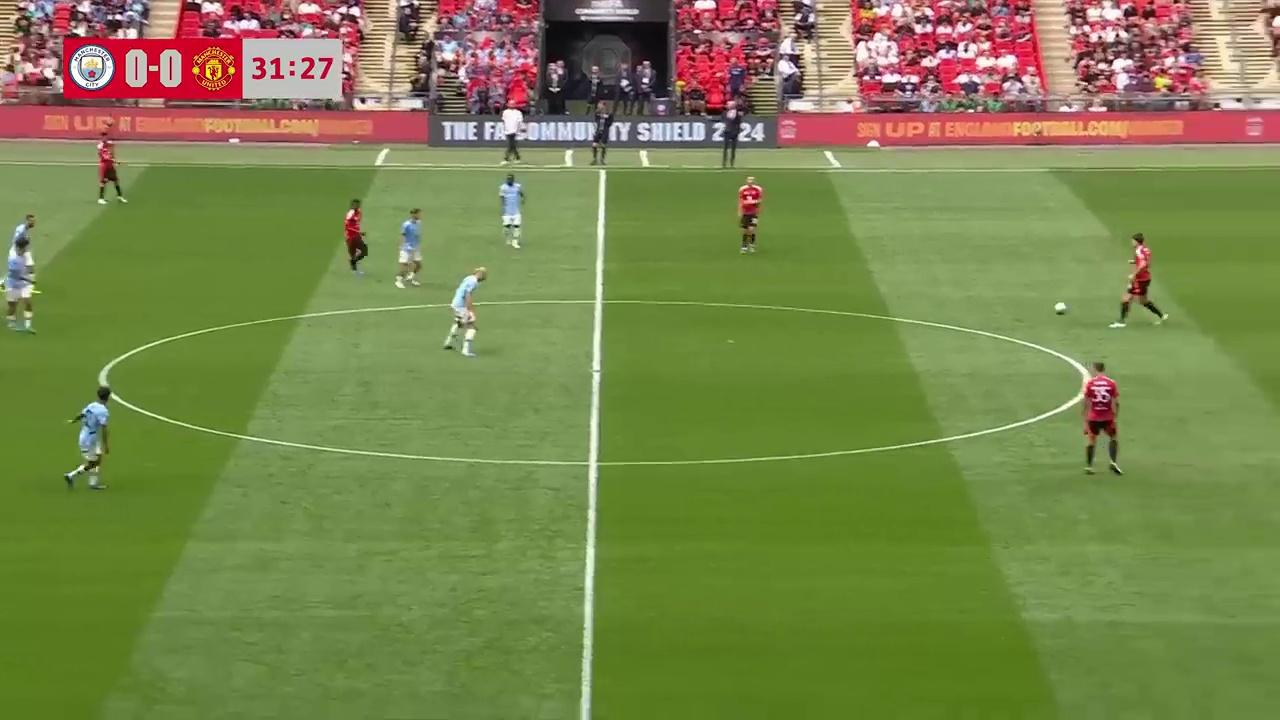ball: (1053, 299, 1067, 315)
player: (1111, 234, 1168, 327), (1080, 361, 1121, 477), (63, 391, 110, 490), (443, 271, 481, 356), (2, 250, 39, 334), (6, 213, 38, 285), (395, 207, 423, 288), (96, 137, 127, 206), (498, 172, 525, 249), (737, 175, 763, 254), (344, 199, 367, 275)
